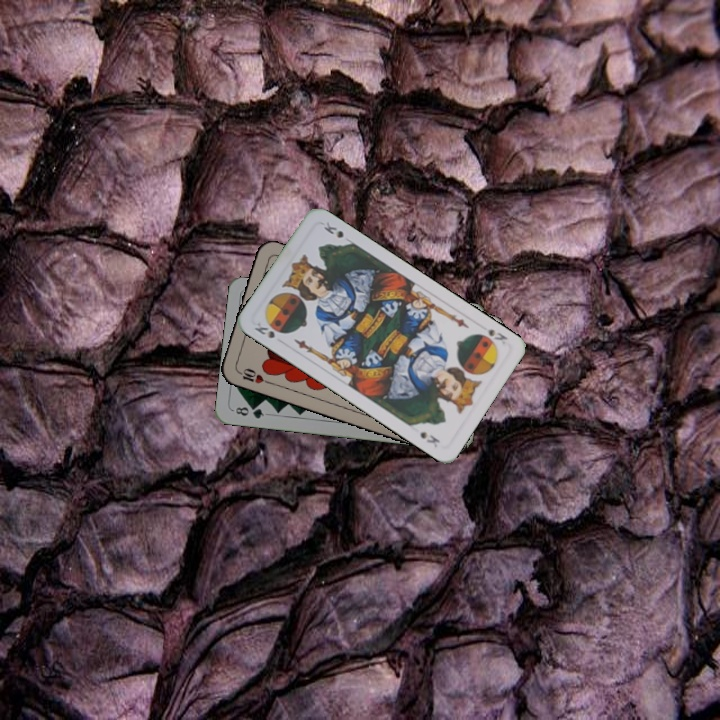G8: (231, 402, 267, 421)
H10: (233, 364, 272, 386)
SK: (475, 320, 510, 347), (250, 318, 277, 341)
